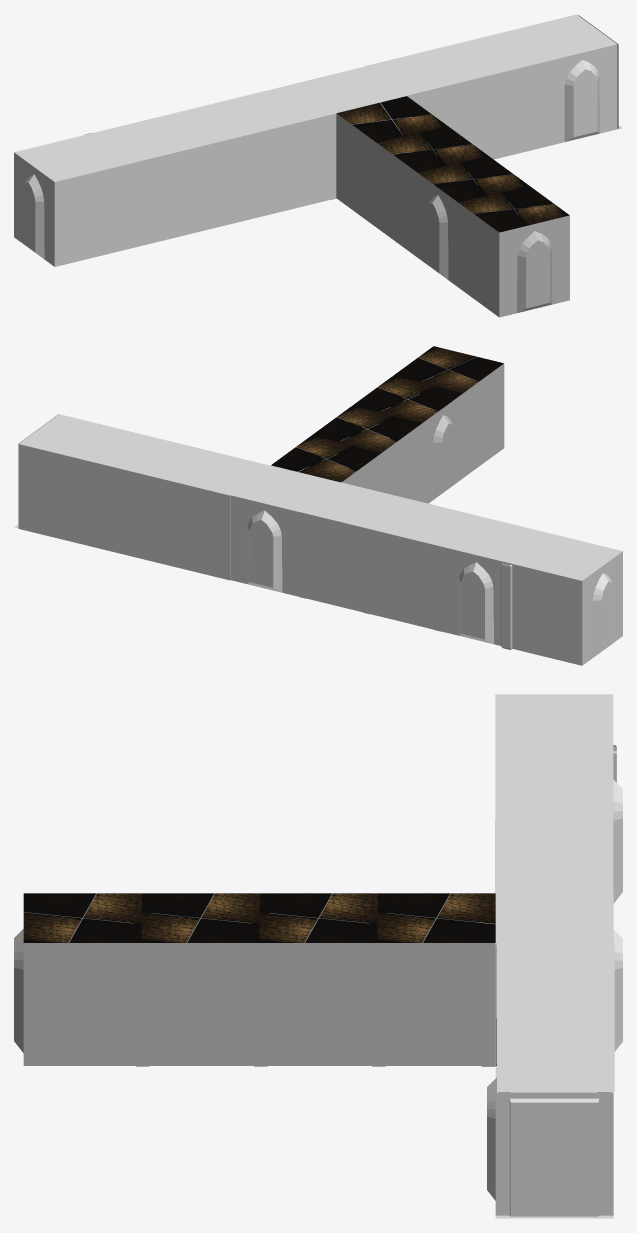
Rendered from corridor01.fbx.
3 renders of one model, top to bottom at view 1: azimuth 30°, elevation 25°; view 2: azimuth 150°, elevation 25°; view 3: azimuth 270°, elevation 25°, orthographic. The views are drawn at different scales.
Visible parts, largest first — view 1: castle_wall01, castle_celling01, wall01.023, wall01.022, wall01.017, wall01.016, wall01.013, wall01.011, wall01.015, cellin01.011, cellin01.005, cellin01.008 (+6 smaller); view 2: castle_celling01, castle_wall01, wall01.019, wall01.014, wall01.020, wall01.009, wall01.008, wall01.018, wall01.012, wall01.021, wall01.015, cellin01.009 (+8 smaller); view 3: castle_wall01, castle_celling01, door01, cellin01.005, cellin01.004, cellin01.011, cellin01.010, cellin01.009, cellin01.008, cellin01.007, cellin01.006, wall01.021 (+2 smaller).
Part boxes in pixels (x1,y1,x2,y2): castle_wall01: [336, 113, 569, 317]; castle_celling01: [337, 96, 569, 232]; wall01.023: [54, 165, 125, 266]; wall01.022: [125, 147, 195, 249]; wall01.017: [266, 113, 336, 215]; wall01.016: [196, 130, 266, 232]; wall01.013: [547, 44, 617, 146]; wall01.011: [476, 61, 546, 159]; wall01.015: [14, 152, 54, 266]; cellin01.011: [14, 135, 124, 181]; cellin01.005: [436, 31, 546, 78]; cellin01.008: [226, 83, 336, 130]; castle_celling01: [271, 346, 503, 482]; castle_wall01: [296, 346, 504, 503]; wall01.019: [370, 529, 441, 631]; wall01.014: [18, 444, 89, 545]; wall01.020: [511, 564, 582, 665]; wall01.009: [160, 478, 230, 580]; wall01.008: [89, 461, 159, 563]; wall01.018: [300, 512, 370, 613]; wall01.012: [230, 495, 299, 596]; wall01.021: [441, 546, 511, 645]; wall01.015: [582, 551, 622, 665]; cellin01.009: [371, 499, 481, 546]; castle_wall01: [14, 893, 495, 1065]; castle_celling01: [23, 893, 495, 942]; door01: [495, 1092, 613, 1216]; cellin01.005: [497, 992, 614, 1042]; cellin01.004: [497, 942, 614, 992]; cellin01.011: [495, 694, 613, 743]; cellin01.010: [495, 744, 613, 793]; cellin01.009: [495, 794, 613, 843]; cellin01.008: [495, 844, 613, 893]; cellin01.007: [495, 893, 613, 942]; cellin01.006: [497, 1042, 614, 1091]; wall01.021: [613, 780, 622, 903].
Bounding box in the file's own units: 1627 × 232 × 1033.
